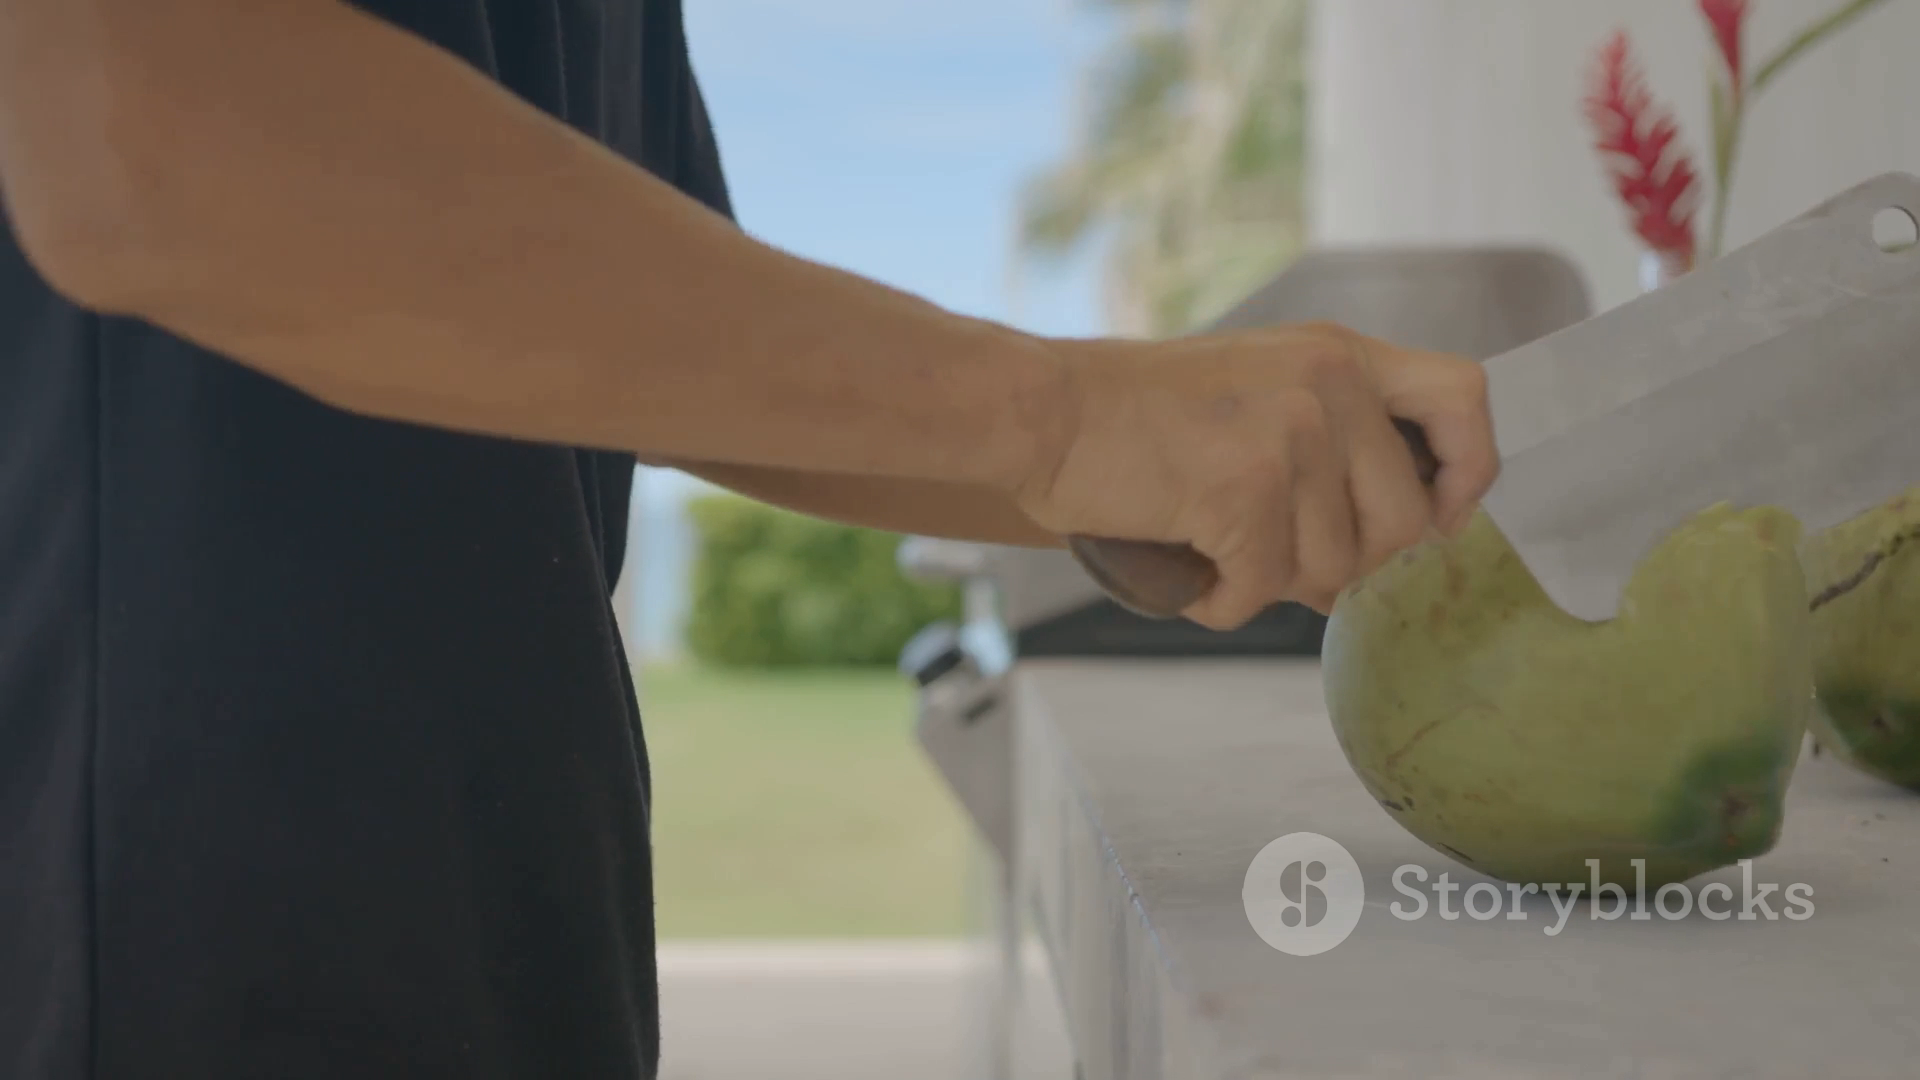cortante: (1461, 173, 1920, 622)
